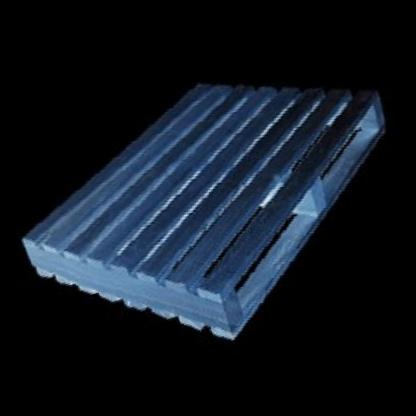BoxFace: (24, 81, 389, 346)
